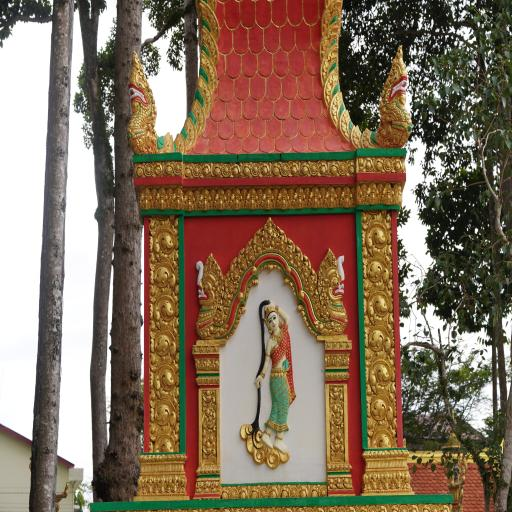hoa: (142, 161, 154, 177), (172, 160, 183, 176), (309, 160, 319, 177), (382, 158, 394, 172), (221, 162, 231, 178), (228, 486, 239, 500), (191, 163, 202, 177), (338, 161, 348, 176), (280, 162, 290, 176), (258, 486, 269, 498), (289, 484, 298, 498), (252, 162, 261, 176), (318, 484, 327, 497), (345, 341, 352, 349), (326, 341, 332, 350), (192, 345, 198, 354), (339, 340, 344, 350), (332, 341, 338, 349), (206, 345, 212, 353), (199, 346, 205, 354), (214, 344, 218, 354)
la: (362, 210, 394, 259), (148, 220, 178, 264), (149, 326, 180, 366), (149, 294, 180, 334), (364, 393, 396, 429), (363, 290, 394, 327), (364, 322, 395, 359), (150, 259, 180, 297), (364, 358, 395, 394), (150, 366, 181, 401), (363, 254, 392, 291), (196, 0, 220, 44), (196, 49, 218, 94), (322, 66, 345, 109), (318, 18, 342, 56), (319, 42, 343, 78), (198, 25, 220, 64), (320, 0, 346, 31), (194, 74, 214, 114), (327, 88, 347, 127), (188, 96, 207, 135), (366, 426, 398, 449), (154, 400, 175, 433), (149, 433, 179, 453), (261, 218, 278, 252), (181, 116, 197, 149), (156, 126, 174, 154), (339, 104, 352, 142), (202, 434, 218, 464), (201, 406, 218, 434), (244, 186, 261, 212), (138, 186, 155, 210), (196, 187, 213, 210), (212, 187, 229, 210), (322, 186, 338, 210), (259, 186, 275, 210), (362, 123, 376, 150), (338, 186, 354, 209), (330, 404, 344, 430), (182, 185, 196, 211), (300, 251, 311, 284), (330, 430, 345, 454), (275, 187, 290, 211), (154, 186, 169, 210), (173, 131, 188, 155), (380, 183, 396, 205), (228, 186, 242, 211), (350, 117, 360, 151), (253, 224, 263, 256), (276, 225, 286, 257), (306, 263, 316, 294), (307, 186, 321, 208), (292, 188, 306, 209), (169, 186, 183, 207), (230, 257, 240, 286), (366, 183, 379, 205), (393, 469, 407, 489), (367, 472, 381, 492), (225, 270, 235, 298), (244, 239, 255, 264), (329, 386, 344, 404), (237, 246, 247, 273), (169, 474, 182, 493), (294, 244, 302, 274), (286, 235, 294, 264), (202, 391, 216, 407), (380, 472, 392, 490), (156, 474, 168, 492), (359, 158, 373, 173), (144, 476, 156, 493), (298, 160, 310, 177), (211, 162, 222, 180), (135, 159, 145, 178), (391, 158, 404, 172), (204, 252, 213, 272), (258, 162, 270, 177), (181, 162, 192, 178), (240, 162, 251, 178), (328, 160, 339, 176), (373, 157, 384, 173), (288, 160, 298, 177), (162, 162, 174, 176), (230, 163, 240, 179), (332, 352, 343, 366), (312, 287, 320, 306), (271, 161, 281, 176), (248, 486, 259, 499), (152, 162, 162, 176), (318, 162, 328, 176), (346, 162, 356, 176), (212, 358, 221, 373), (297, 485, 308, 497), (343, 477, 353, 490), (308, 484, 318, 497), (279, 485, 289, 497), (268, 486, 278, 498), (202, 358, 212, 370), (335, 477, 344, 490), (216, 262, 222, 281), (343, 352, 351, 366), (202, 163, 210, 177), (238, 487, 248, 498), (204, 480, 212, 492), (211, 257, 217, 273), (323, 255, 329, 270), (212, 481, 220, 492), (328, 478, 335, 490), (221, 486, 228, 498), (195, 358, 202, 370), (318, 260, 324, 274), (196, 482, 204, 492), (326, 354, 332, 367), (317, 268, 323, 280), (218, 274, 224, 284)
ran: (369, 43, 426, 154), (123, 48, 171, 154), (314, 242, 352, 335), (195, 247, 229, 343)
than: (241, 298, 306, 474)
